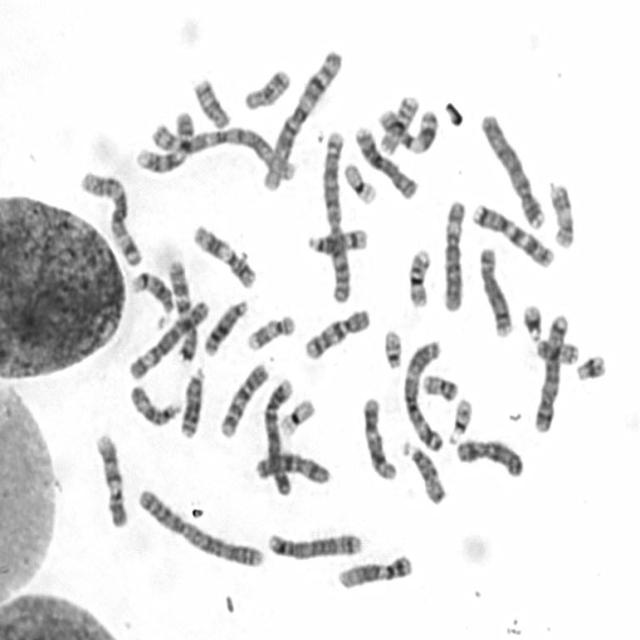A1: (262, 50, 344, 194), (149, 121, 297, 182)
A2: (137, 488, 266, 570), (320, 128, 352, 304)
A3: (78, 170, 144, 268), (402, 339, 446, 453)
B4: (479, 110, 546, 230), (262, 377, 296, 496)
B5: (533, 313, 568, 434), (268, 531, 366, 560)
C10: (218, 363, 270, 441), (304, 307, 373, 362)
C11: (193, 222, 258, 289), (378, 105, 439, 156)
C12: (361, 396, 399, 480), (337, 556, 414, 590)
C6: (126, 301, 211, 383), (439, 200, 469, 317)
C7: (472, 202, 558, 270), (167, 258, 199, 363)
C8: (354, 126, 421, 202), (479, 246, 514, 340)
C9: (134, 110, 193, 173), (94, 430, 131, 530)
D13: (202, 297, 250, 358), (178, 366, 208, 438)
D14: (132, 270, 175, 330), (307, 230, 373, 256)
D15: (399, 439, 448, 506), (130, 385, 184, 430)
E16: (379, 93, 420, 157), (405, 247, 432, 311)
E17: (244, 315, 299, 354), (550, 182, 576, 247)
E18: (242, 67, 292, 113), (194, 77, 232, 131)
F19: (280, 398, 317, 438), (343, 163, 377, 205)
F20: (534, 337, 582, 365), (422, 373, 459, 403)
G21: (573, 351, 608, 382), (520, 303, 544, 343)
G22: (447, 398, 474, 446), (379, 326, 404, 370)
X: (456, 437, 524, 480), (252, 453, 332, 486)
